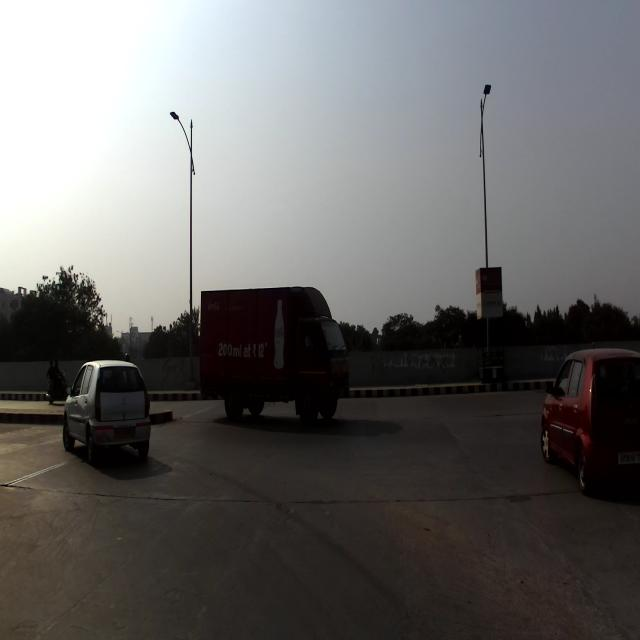car ahead at: (542, 342, 640, 492), (60, 352, 158, 474)
truck ahead at: (192, 281, 350, 431)
